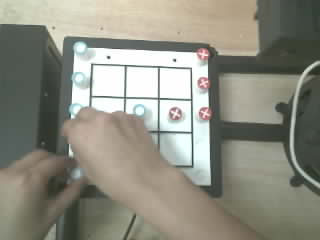blue circle: (73, 41, 87, 54), (69, 103, 83, 116), (72, 72, 85, 85), (133, 104, 145, 116)
board: (69, 41, 213, 185)
cells: (126, 99, 158, 131), (160, 133, 191, 166), (159, 100, 192, 131), (92, 65, 124, 96), (160, 68, 191, 98), (126, 67, 157, 97), (92, 98, 123, 112), (150, 133, 158, 144)
grid: (89, 64, 193, 167)
red cross: (198, 77, 211, 90), (169, 107, 181, 120), (199, 107, 212, 119), (197, 48, 209, 60)
